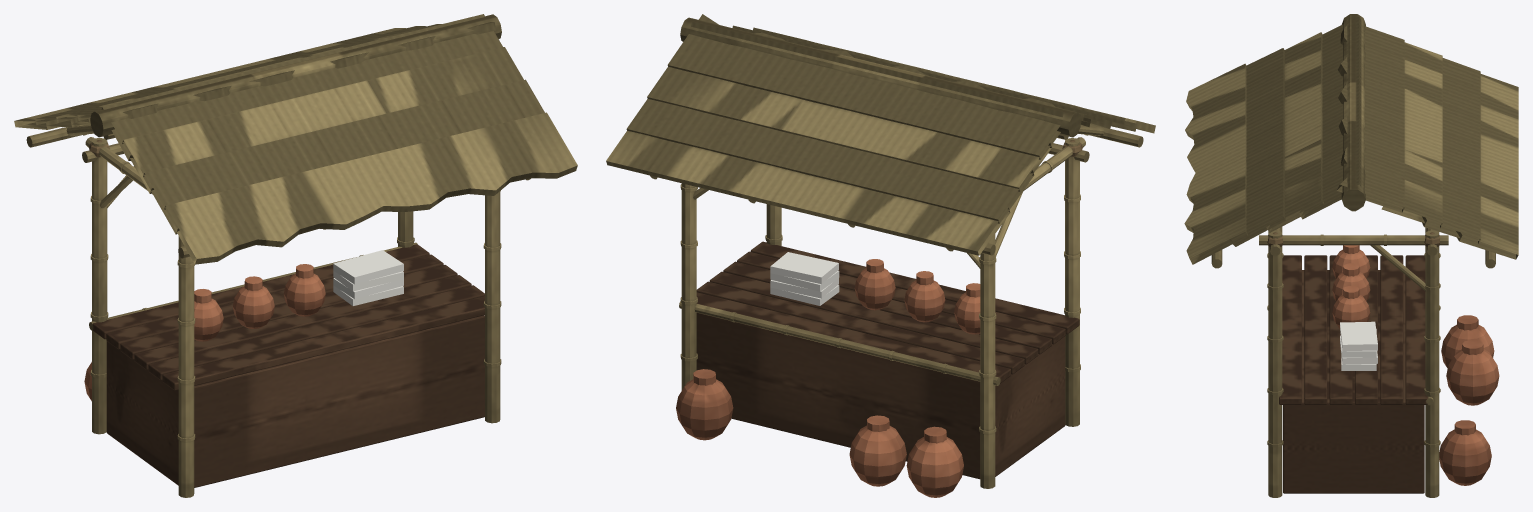
The model's file is market_stall_pottery.glb.
3 views of the same model, side by side, from view 1: azimuth 30°, elevation 25°; view 2: azimuth 150°, elevation 25°; view 3: azimuth 270°, elevation 25° (orthographic). The views are drawn at different scales.
Visible parts, largest first — view 1: Counter_Base.005, Ola_Back_0.005, Ola_Back_1.005, Ola_Back_2.005, Ola_Back_3.005, Counter_Plank_0.005, Ola_Ridge_Cap.005, Counter_Plank_1.005, Counter_Plank_2.005, Bamboo_Pillar_2.005, Bamboo_Pillar_0.005, Bamboo_Pillar_1.005 (+12 smaller); view 2: Counter_Base.005, Ola_Front_0.005, Ola_Front_3.005, Ola_Front_1.005, Ola_Front_2.005, Ola_Ridge_Cap.005, Counter_Plank_4.005, Bamboo_Pillar_0.005, Counter_Plank_3.005, Counter_Plank_5.005, Bamboo_Pillar_2.005, Bamboo_Pillar_3.005 (+15 smaller); view 3: Counter_Base.005, Ola_Back_0.005, Ola_Front_3.005, Ola_Front_0.005, Ola_Front_1.005, Ola_Back_1.005, Ola_Front_2.005, Ola_Back_2.005, Ola_Back_3.005, Counter_Plank_1.005, Bamboo_Pillar_1.005, Bamboo_Pillar_3.005 (+15 smaller).
Boxes of the visible parts, x1,y1,x2,y2 form: Counter_Base.005: [106, 315, 484, 487]; Ola_Back_0.005: [164, 112, 577, 264]; Ola_Back_1.005: [143, 79, 544, 234]; Ola_Back_2.005: [122, 47, 523, 193]; Ola_Back_3.005: [101, 14, 502, 160]; Counter_Plank_0.005: [162, 296, 484, 390]; Ola_Ridge_Cap.005: [90, 14, 501, 137]; Counter_Plank_1.005: [148, 285, 484, 380]; Counter_Plank_2.005: [134, 275, 471, 369]; Bamboo_Pillar_2.005: [92, 138, 107, 434]; Bamboo_Pillar_0.005: [178, 236, 194, 497]; Bamboo_Pillar_1.005: [485, 191, 500, 423]; Counter_Base.005: [696, 312, 1065, 479]; Ola_Front_0.005: [606, 130, 1010, 255]; Ola_Front_3.005: [667, 14, 1060, 159]; Ola_Front_1.005: [626, 99, 1034, 223]; Ola_Front_2.005: [647, 66, 1051, 191]; Ola_Ridge_Cap.005: [680, 17, 1081, 137]; Counter_Plank_4.005: [696, 281, 1024, 374]; Bamboo_Pillar_0.005: [1065, 138, 1079, 426]; Counter_Plank_3.005: [709, 271, 1038, 364]; Counter_Plank_5.005: [696, 292, 1010, 383]; Bamboo_Pillar_2.005: [980, 234, 995, 488]; Bamboo_Pillar_3.005: [681, 183, 696, 390]; Counter_Base.005: [1283, 270, 1424, 493]; Ola_Back_0.005: [1184, 63, 1247, 264]; Ola_Front_3.005: [1336, 26, 1404, 212]; Ola_Front_0.005: [1456, 74, 1518, 259]; Ola_Front_1.005: [1422, 58, 1480, 243]; Ola_Back_1.005: [1229, 48, 1285, 246]; Ola_Front_2.005: [1381, 42, 1442, 228]; Ola_Back_2.005: [1266, 32, 1323, 232]; Ola_Back_3.005: [1299, 16, 1361, 219]; Counter_Plank_1.005: [1304, 255, 1327, 404]; Bamboo_Pillar_1.005: [1268, 230, 1282, 497]; Bamboo_Pillar_3.005: [1425, 230, 1439, 497].
Size of the model in its own units: 3.28 by 2.88 by 2.64.
1 material, 1 textured.
